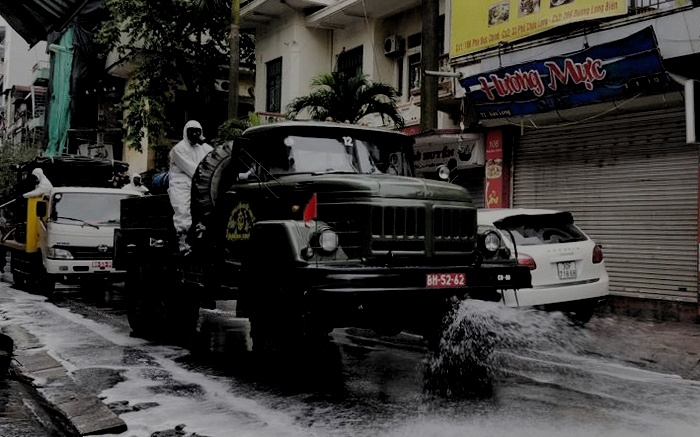plate: (424, 270, 468, 289)
